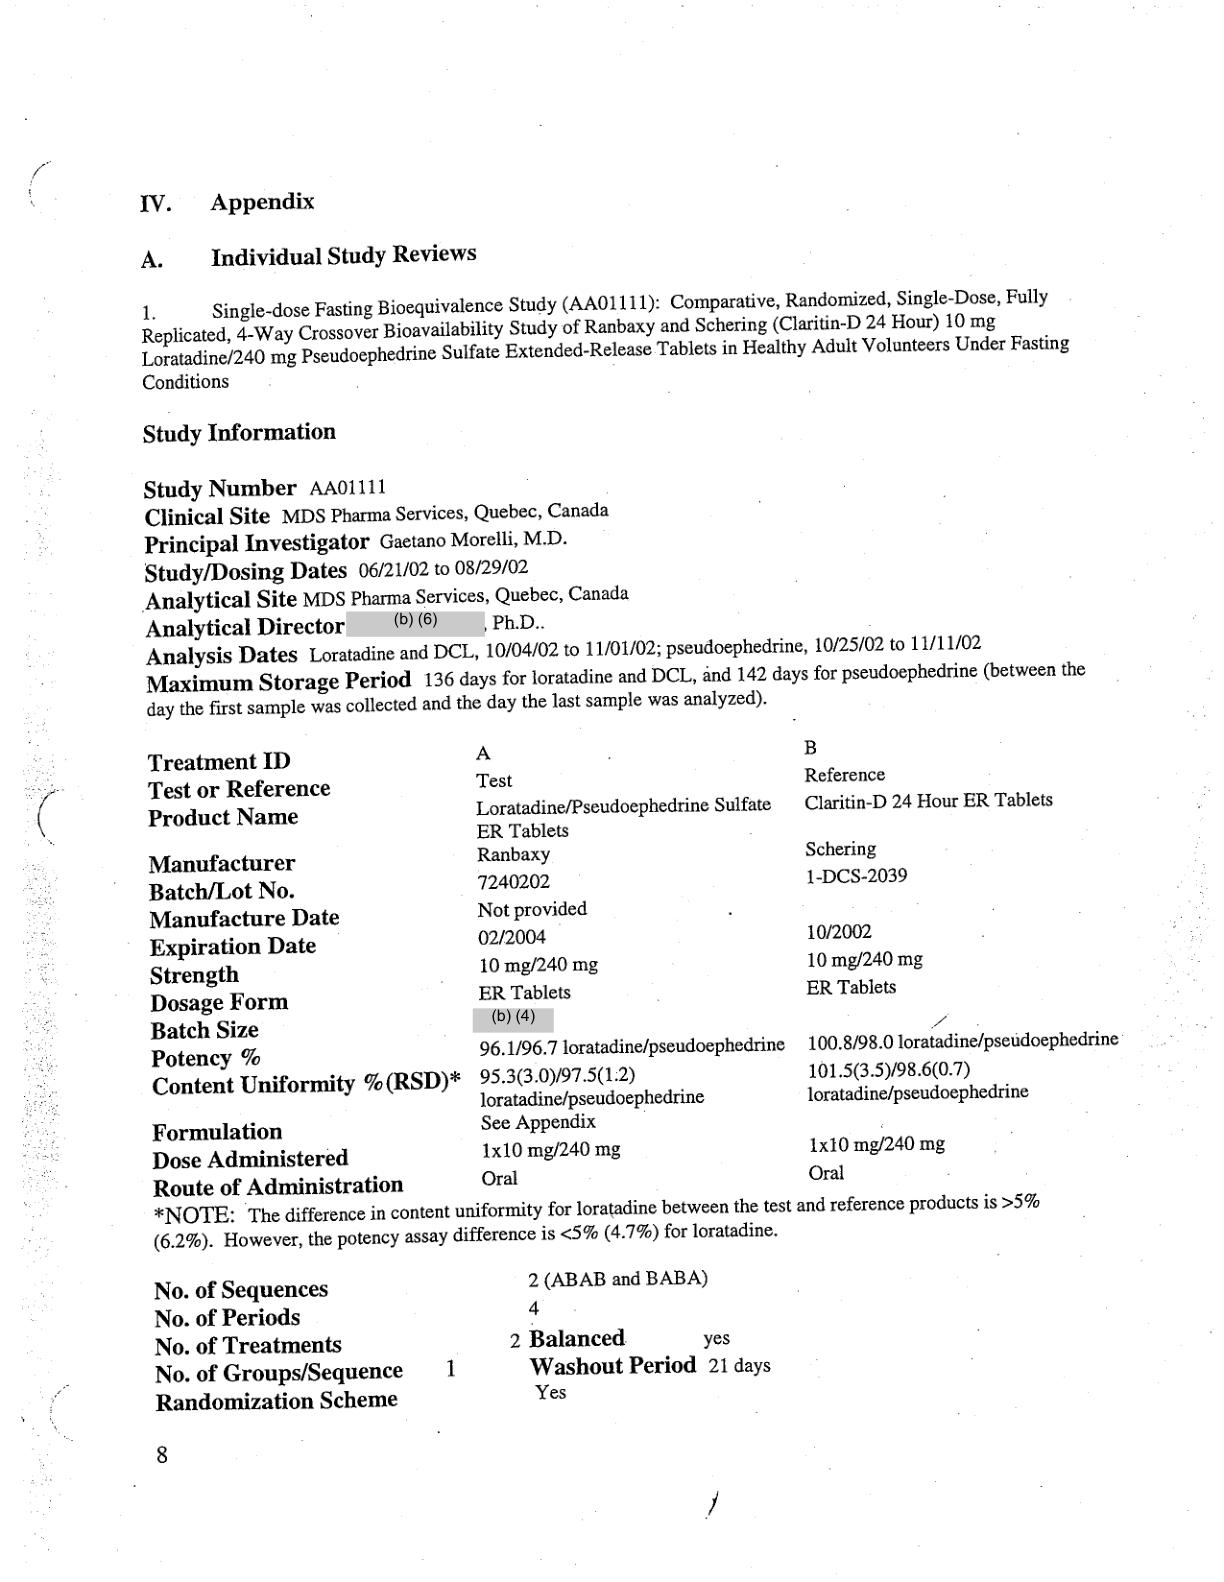nolines: (146, 736, 1126, 1199), (152, 1267, 773, 1412)
